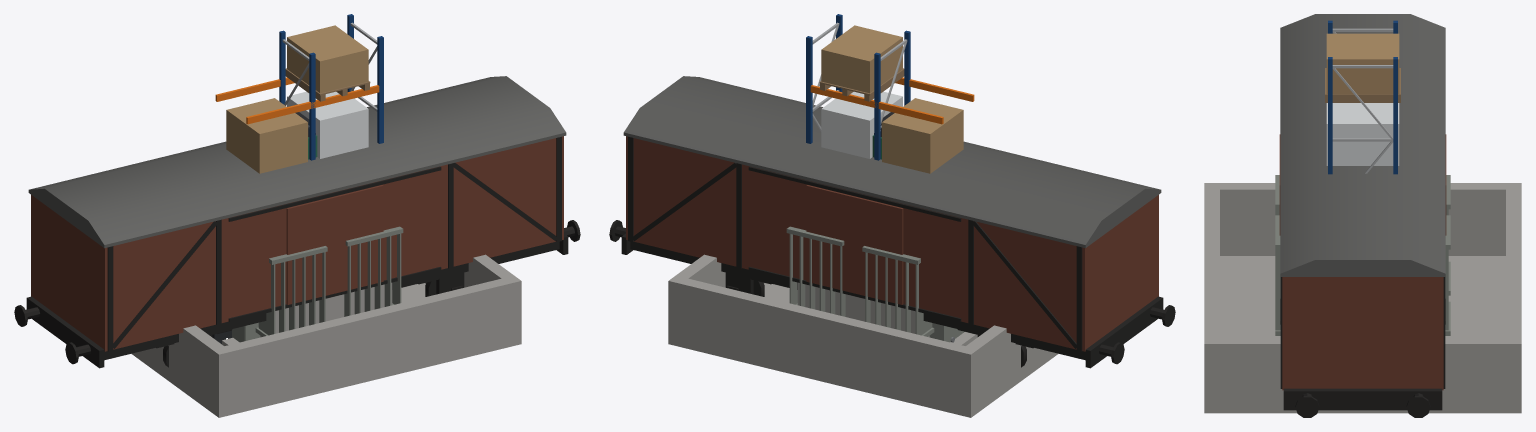
File: facility-props.glb
3 renders of one model, left to right at view 1: azimuth 30°, elevation 25°; view 2: azimuth 150°, elevation 25°; view 3: azimuth 270°, elevation 25°, orthographic. The views are drawn at different scales.
Visible parts, largest first — view 1: boxVan.vanBody, boxVan.vanRoof, transformer.concrete, boxVan.iron, palletRackBay.cardboard, transformer.transformer, palletRackBay.wrap, palletRackBay.rackOrange, pumpUnit.concrete, palletRackEnd.rackBlue, palletRackBay.rackBlue, palletRackBay.timber; view 2: boxVan.vanBody, boxVan.vanRoof, transformer.concrete, boxVan.iron, palletRackBay.cardboard, transformer.transformer, palletRackBay.wrap, palletRackBay.rackOrange, pumpUnit.concrete, palletRackEnd.rackBlue, palletRackBay.rackBlue, palletRackBay.timber; view 3: transformer.concrete, boxVan.vanRoof, boxVan.vanBody, boxVan.iron, palletRackBay.cardboard, palletRackBay.wrap, transformer.transformer, palletRackBay.rackBlue, palletRackBay.galv, palletRackBay.timber.
Boxes of the visible parts, x1,y1,x2,y2 form: boxVan.vanBody: (31,136,563,351); boxVan.vanRoof: (28,76,566,248); transformer.concrete: (131,254,521,417); boxVan.iron: (14,136,580,368); palletRackBay.cardboard: (226,25,368,173); transformer.transformer: (232,226,403,342); palletRackBay.wrap: (287,91,368,158); palletRackBay.rackOrange: (215,77,379,124); pumpUnit.concrete: (260,282,392,337); palletRackEnd.rackBlue: (279,30,315,160); palletRackBay.rackBlue: (347,14,383,143); palletRackBay.timber: (285,68,370,101); boxVan.vanBody: (626,136,1158,351); boxVan.vanRoof: (623,76,1161,248); transformer.concrete: (668,254,1058,417); boxVan.iron: (609,136,1175,368); palletRackBay.cardboard: (821,25,963,173); transformer.transformer: (786,226,964,342); palletRackBay.wrap: (821,91,902,158); palletRackBay.rackOrange: (810,77,974,124); pumpUnit.concrete: (797,282,929,337); palletRackEnd.rackBlue: (874,30,910,160); palletRackBay.rackBlue: (806,14,842,143); palletRackBay.timber: (819,68,904,101); transformer.concrete: (1204,183,1521,413); boxVan.vanRoof: (1280,14,1445,276); boxVan.vanBody: (1279,134,1446,390); boxVan.iron: (1280,277,1445,417); palletRackBay.cardboard: (1326,33,1399,94); palletRackBay.wrap: (1326,103,1399,165); transformer.transformer: (1275,175,1450,335); palletRackBay.rackBlue: (1328,57,1397,174); palletRackBay.galv: (1332,65,1393,173); palletRackBay.timber: (1325,68,1400,102).
Size of the model in its own units: 10 by 5.4 by 5.
